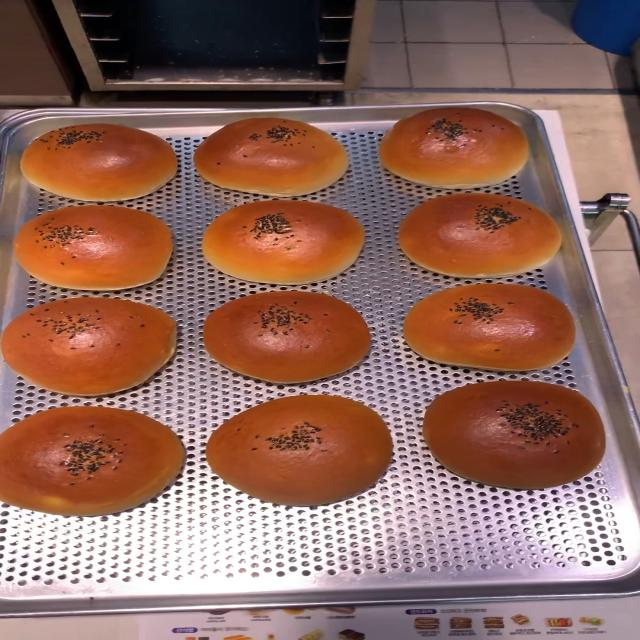bread: (201, 389, 392, 509), (417, 376, 604, 495), (0, 403, 192, 518), (0, 299, 176, 395), (401, 280, 573, 372), (12, 208, 178, 293), (206, 294, 366, 382), (396, 195, 563, 276), (193, 115, 349, 192), (378, 108, 530, 186), (16, 124, 172, 199), (202, 207, 356, 282)
